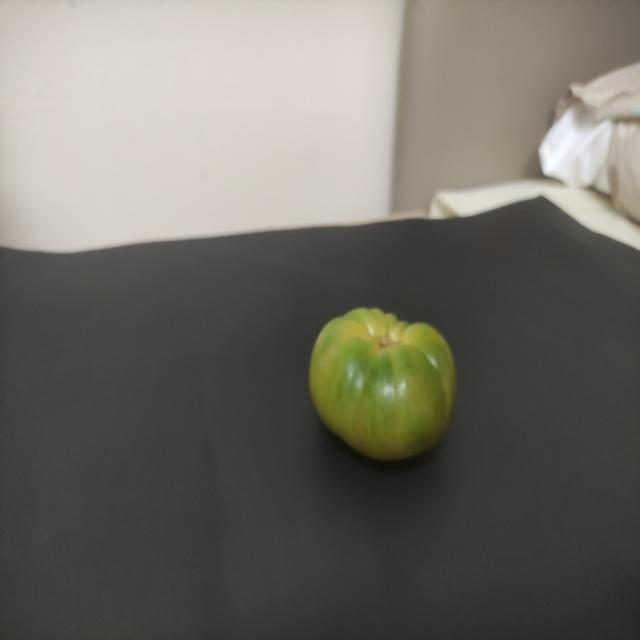yesil: (295, 297, 468, 470)
